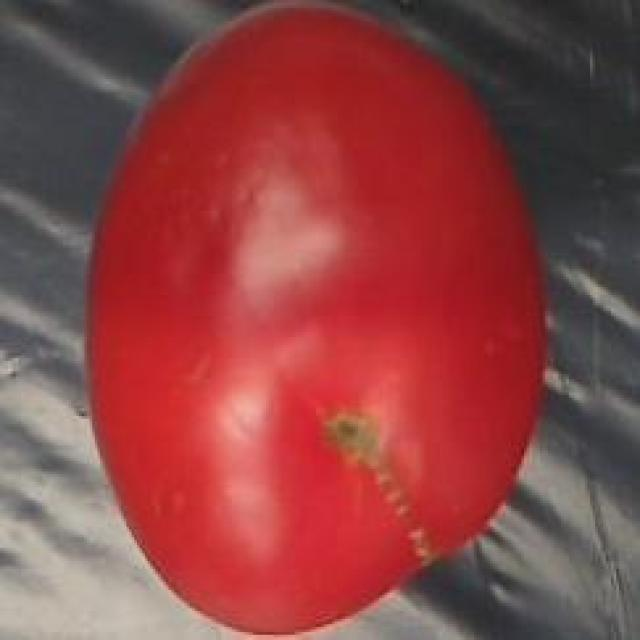overripe tomato: (76, 0, 561, 640)
